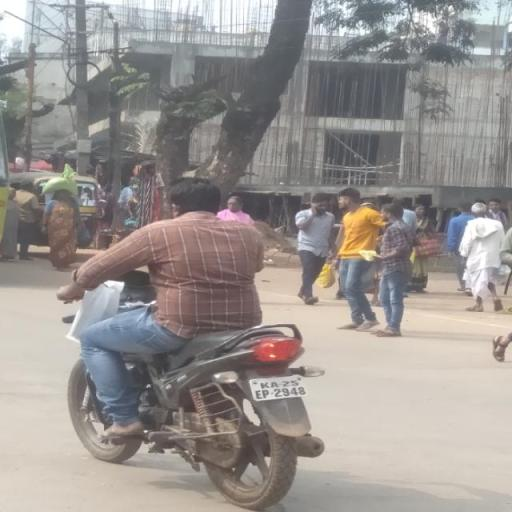bike: (46, 169, 344, 498)
numberplate: (248, 371, 310, 404)
withouthelmet: (170, 178, 220, 214)
